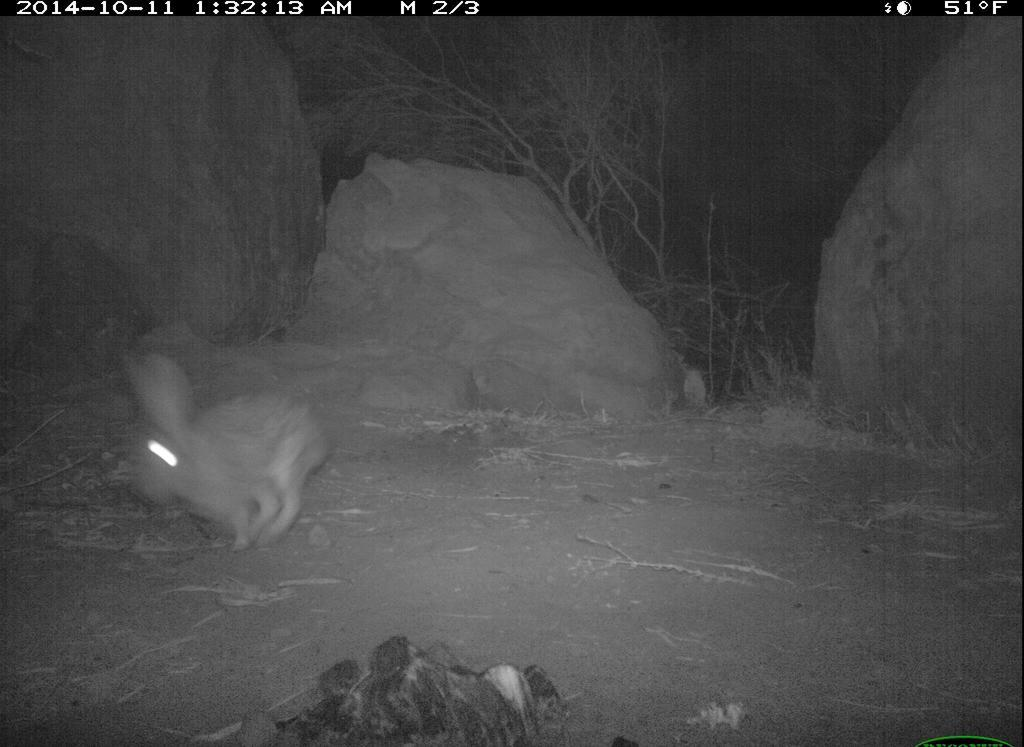rabbit: (101, 340, 330, 561)
